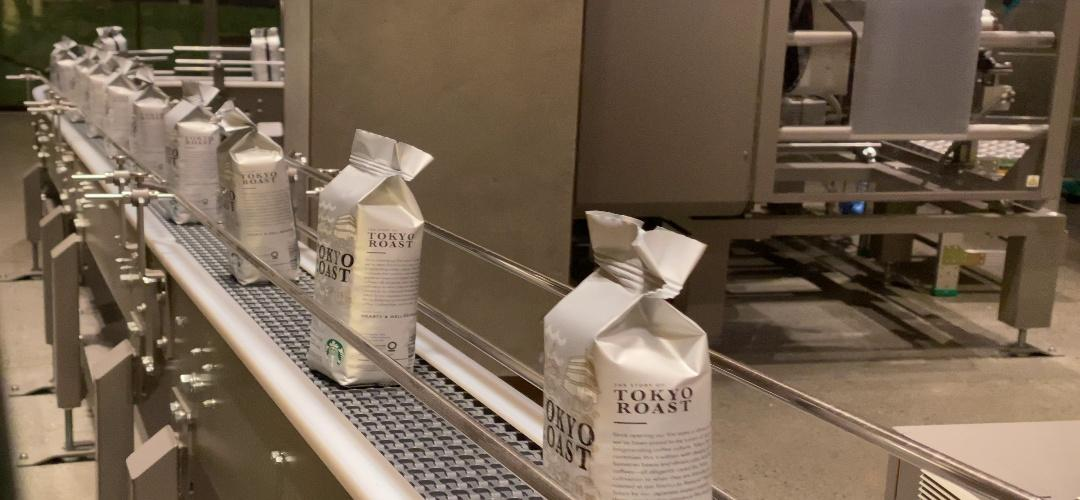conveyor: (542, 313, 713, 492), (320, 193, 422, 310), (216, 152, 296, 237)
